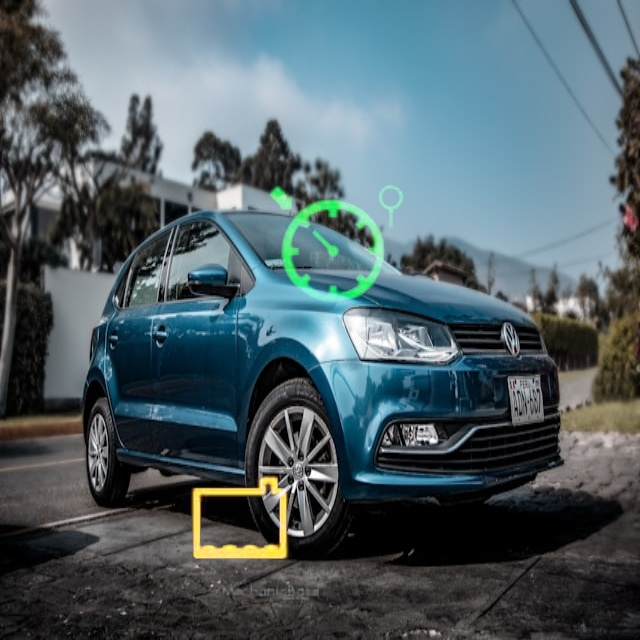symbol: (237, 146, 436, 345), (154, 433, 326, 605)
